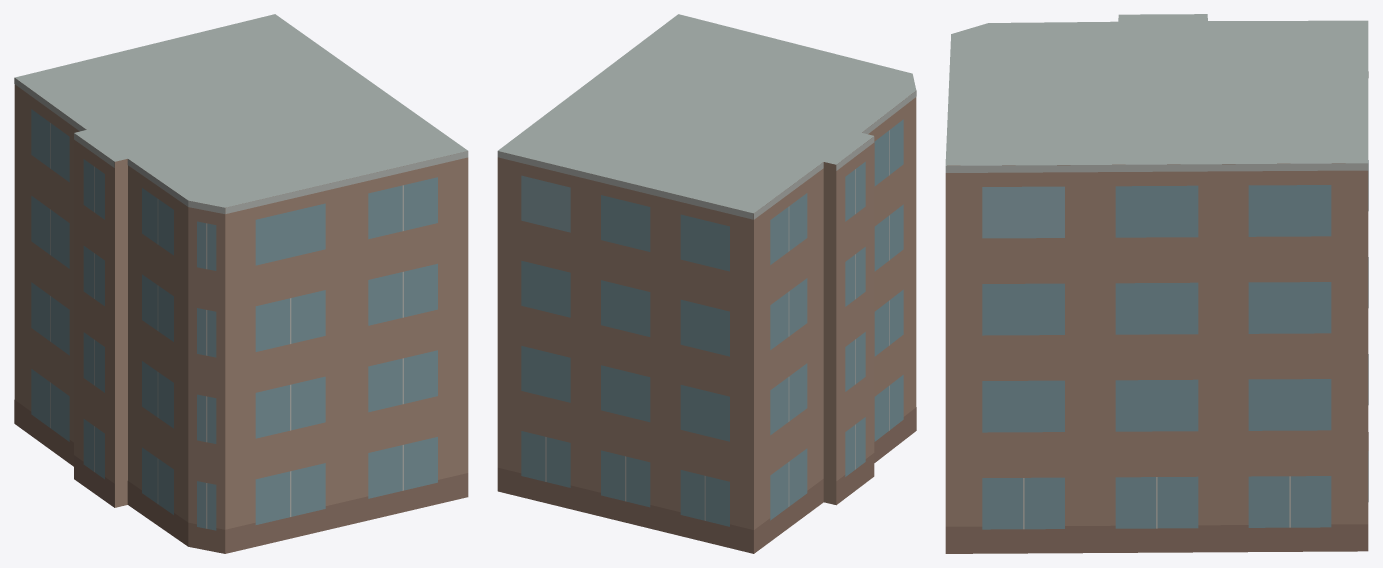
Rendered from survey-upis-33027006.glb.
3 renders of one model, left to right at view 1: azimuth 30°, elevation 25°; view 2: azimuth 150°, elevation 25°; view 3: azimuth 270°, elevation 25°, orthographic. The views are drawn at different scales.
Parts seen in each view (by area): view 1: survey-upis-33027006.tmp; view 2: survey-upis-33027006.tmp; view 3: survey-upis-33027006.tmp.
Boxes of the visible parts, x1,y1,x2,y2 form: survey-upis-33027006.tmp: (14,14,468,553); survey-upis-33027006.tmp: (497,14,916,553); survey-upis-33027006.tmp: (945,14,1368,553).
Size of the model in its own units: 10.91 by 13 by 12.85.
